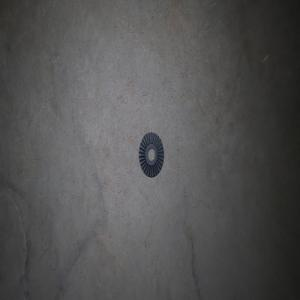Washer: (138, 131, 164, 177)
